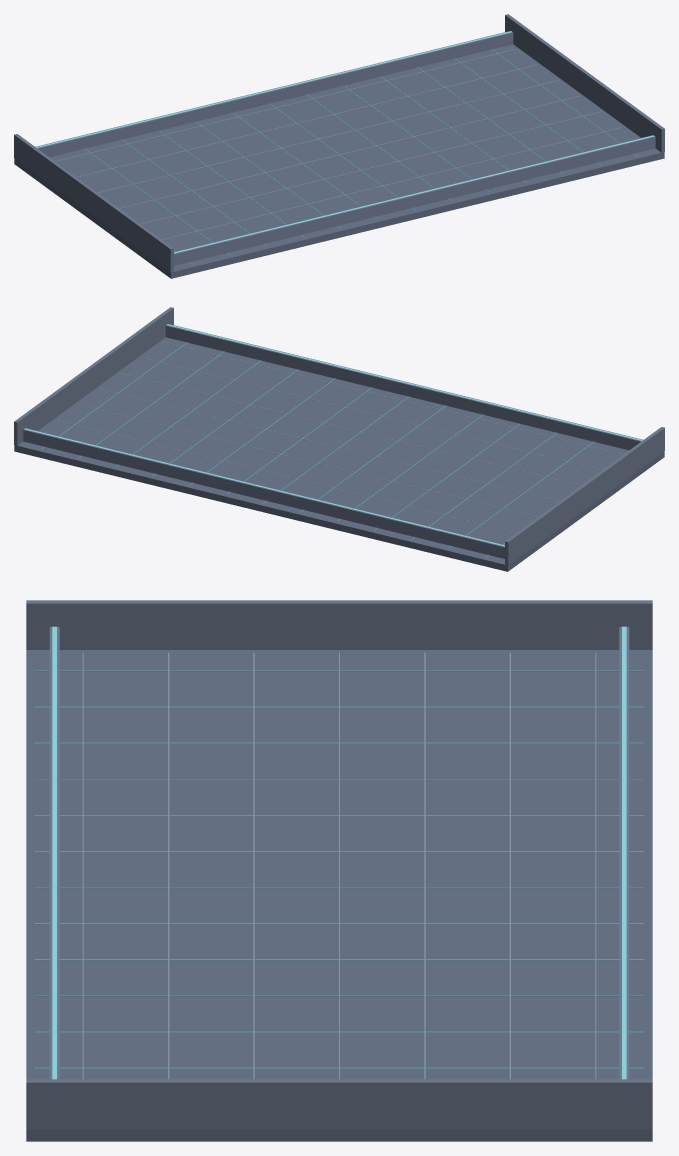
Rendered from comedor_orbital.glb.
3 views of the same model, one above another, from view 1: azimuth 30°, elevation 25°; view 2: azimuth 150°, elevation 25°; view 3: azimuth 270°, elevation 25° (orthographic). The views are drawn at different scales.
Parts seen in each view (by area): view 1: comedor_orbital; view 2: comedor_orbital; view 3: comedor_orbital.
Boxes of the visible parts, bbox=[...] form: comedor_orbital: bbox=[14, 14, 664, 278]; comedor_orbital: bbox=[14, 307, 664, 571]; comedor_orbital: bbox=[26, 600, 652, 1141].
Bounding box in the file's own units: 40.08 × 2.3 × 22.
